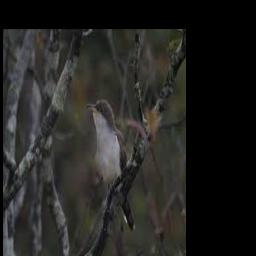Cuckoo: (85, 99, 137, 233)
